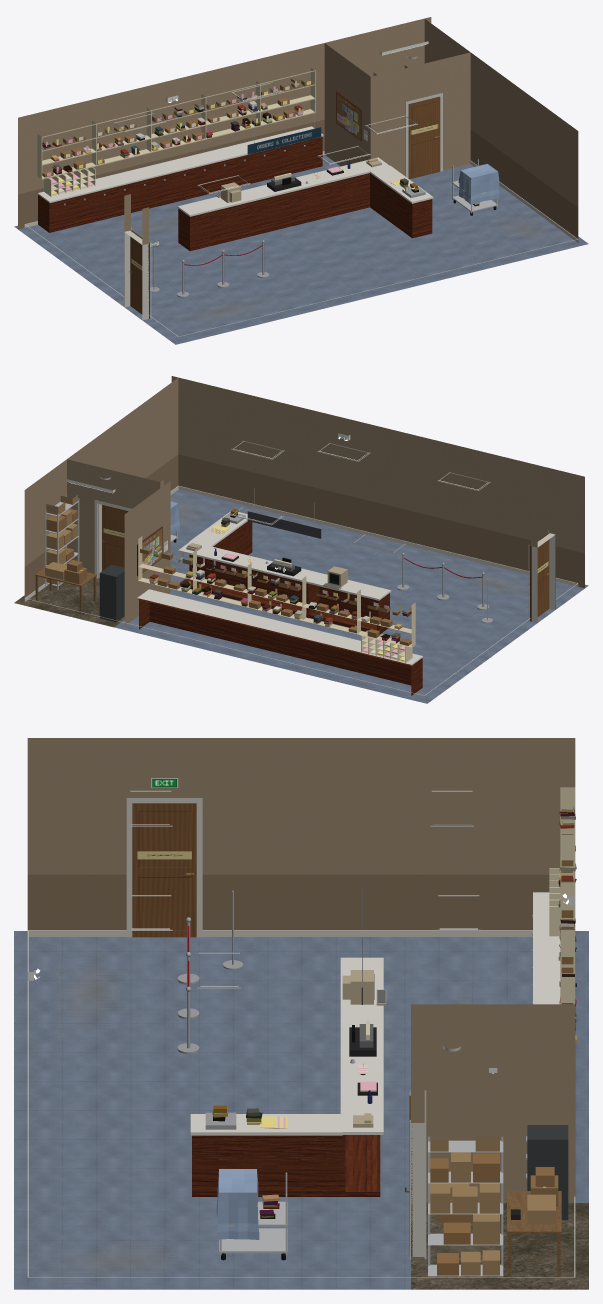
The model's file is bookstore_desk.glb.
The picture shows the model from 3 angles, top to bottom: view 1: azimuth 30°, elevation 25°; view 2: azimuth 150°, elevation 25°; view 3: azimuth 270°, elevation 25°; orthographic projection. The views are drawn at different scales.
Visible parts, largest first — view 1: Wall_Paint, Carpet_Shop, Wood_Desk, Paint_Palette, Laminate, Wall_Lower, Trim_Paint, DoorLeaf_office, Book_Loose, Sign_Paint, Decal_Dust, Cloth_Sheet (+3 smaller); view 2: Wall_Paint, Carpet_Shop, Wall_Lower, Paint_Palette, Wood_Desk, Laminate, Trim_Paint, Floor_Vinyl, Book_Loose, DoorLeaf_office, DoorLeaf_bookstore, Plastic_White (+5 smaller); view 3: Carpet_Shop, Wall_Paint, Wall_Lower, Paint_Palette, Wood_Desk, Laminate, Trim_Paint, DoorLeaf_bookstore, Floor_Vinyl, Metal_Steel, Decal_Dust, Cloth_Sheet (+3 smaller).
Part boxes in pixels (box(x1,y1,x2,y2)): Wall_Paint: box(18, 17, 578, 271); Carpet_Shop: box(14, 155, 588, 344); Wood_Desk: box(38, 91, 432, 250); Paint_Palette: box(37, 67, 496, 297); Laminate: box(38, 126, 433, 216); Wall_Lower: box(18, 119, 578, 306); Trim_Paint: box(24, 93, 577, 336); DoorLeaf_office: box(408, 96, 440, 179); Book_Loose: box(42, 79, 479, 206); Sign_Paint: box(150, 92, 367, 247); Decal_Dust: box(149, 215, 545, 318); Cloth_Sheet: box(459, 164, 499, 204); Wall_Paint: box(24, 376, 584, 625); Carpet_Shop: box(114, 489, 588, 703); Wall_Lower: box(24, 454, 584, 609); Paint_Palette: box(45, 488, 492, 662); Wood_Desk: box(137, 521, 422, 695); Laminate: box(137, 511, 422, 665); Trim_Paint: box(25, 485, 578, 695); Floor_Vinyl: box(14, 578, 124, 627); Book_Loose: box(149, 508, 411, 643); DoorLeaf_office: box(102, 505, 128, 570); DoorLeaf_bookstore: box(529, 533, 549, 621); Plastic_White: box(66, 433, 490, 572); Carpet_Shop: box(14, 931, 588, 1289); Wall_Paint: box(27, 738, 575, 1202); Wall_Lower: box(27, 874, 549, 930); Paint_Palette: box(177, 787, 575, 1275); Wood_Desk: box(192, 1135, 380, 1196); Laminate: box(190, 892, 560, 1135); Trim_Paint: box(27, 798, 575, 1277); DoorLeaf_bookstore: box(132, 803, 196, 937); Floor_Vinyl: box(411, 1203, 588, 1289); Metal_Steel: box(219, 1136, 503, 1276); Decal_Dust: box(69, 969, 506, 1272); Cloth_Sheet: box(216, 1169, 259, 1239).
Bounding box in the file's own units: 12.4 × 3.2 × 8.4.
Materials: 22 (14 with a texture image).
